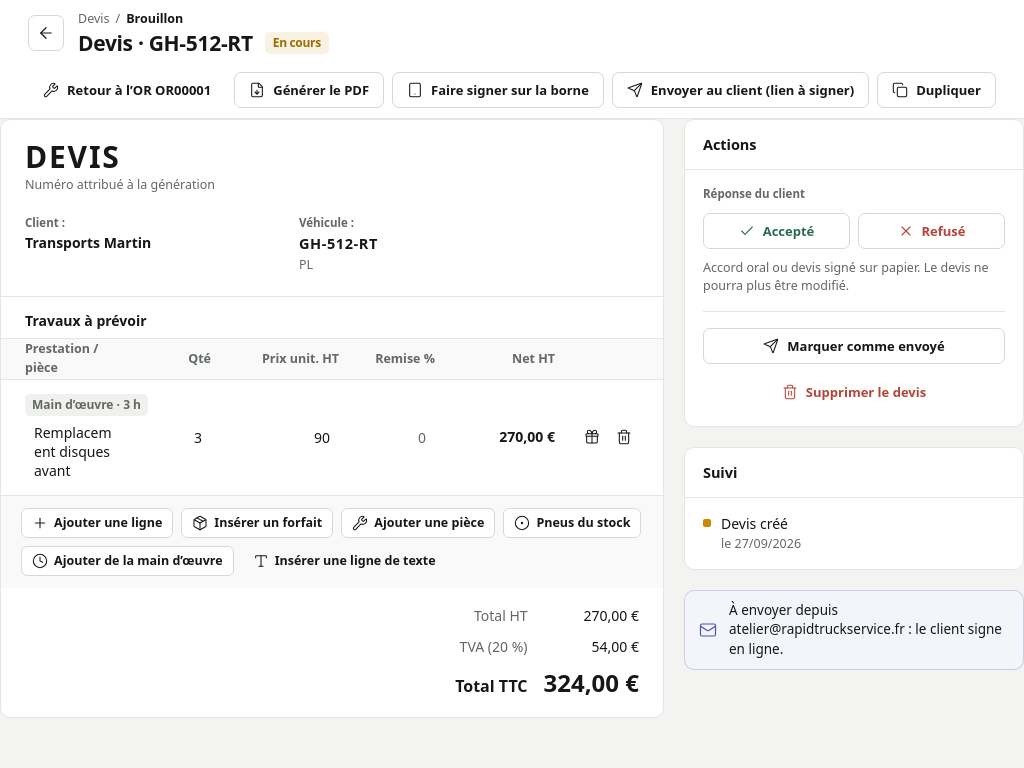
éditeur de devis › une saisie invalide est ignorée
Replace the text in the field named "Quantité" with "0" at (171, 438), box [131,420,211,454]
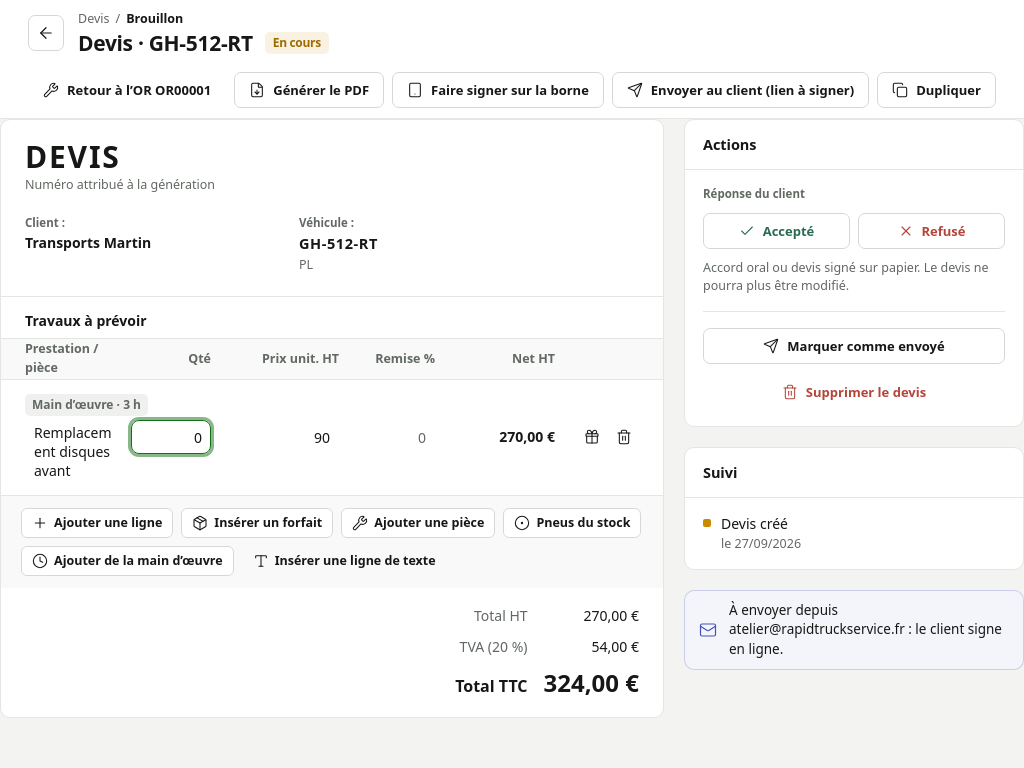
Press Tab
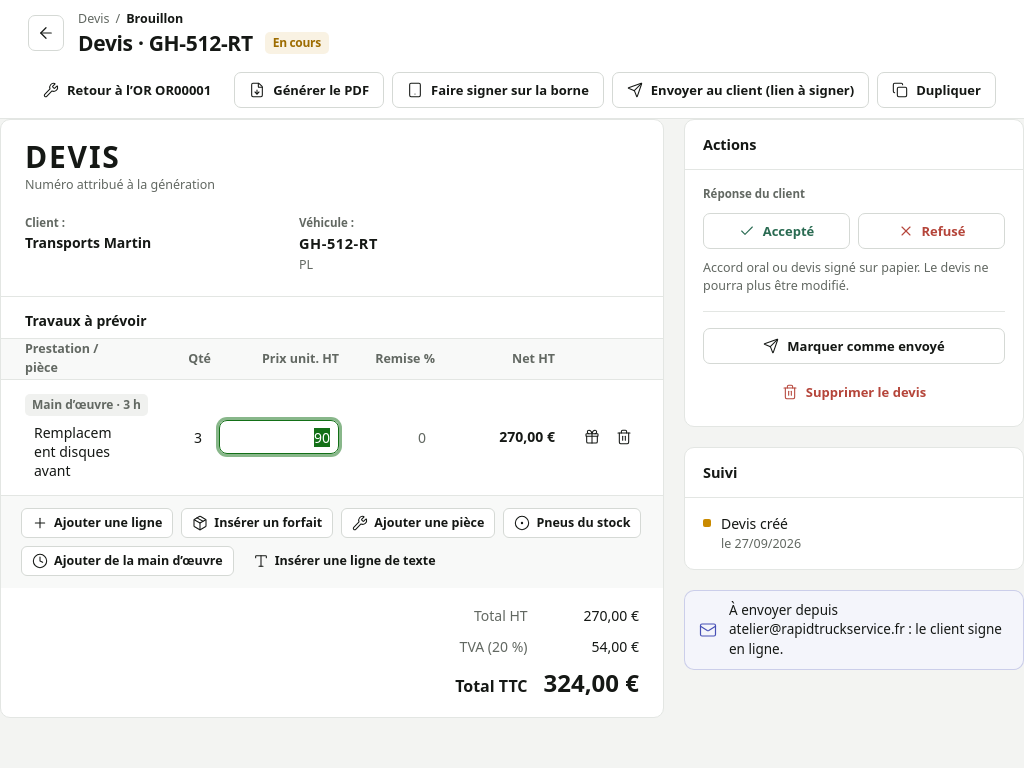
Result: the field named "Quantité" holds "3" at [131,420,211,454]
